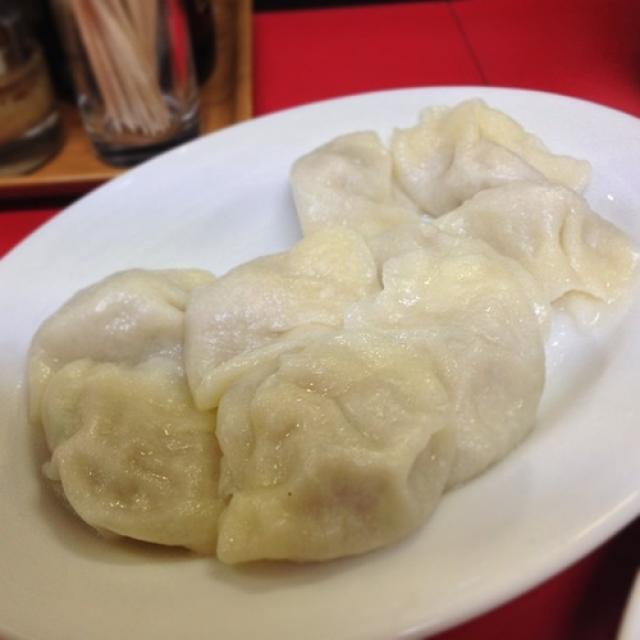带馅早点: (33, 60, 612, 581)
